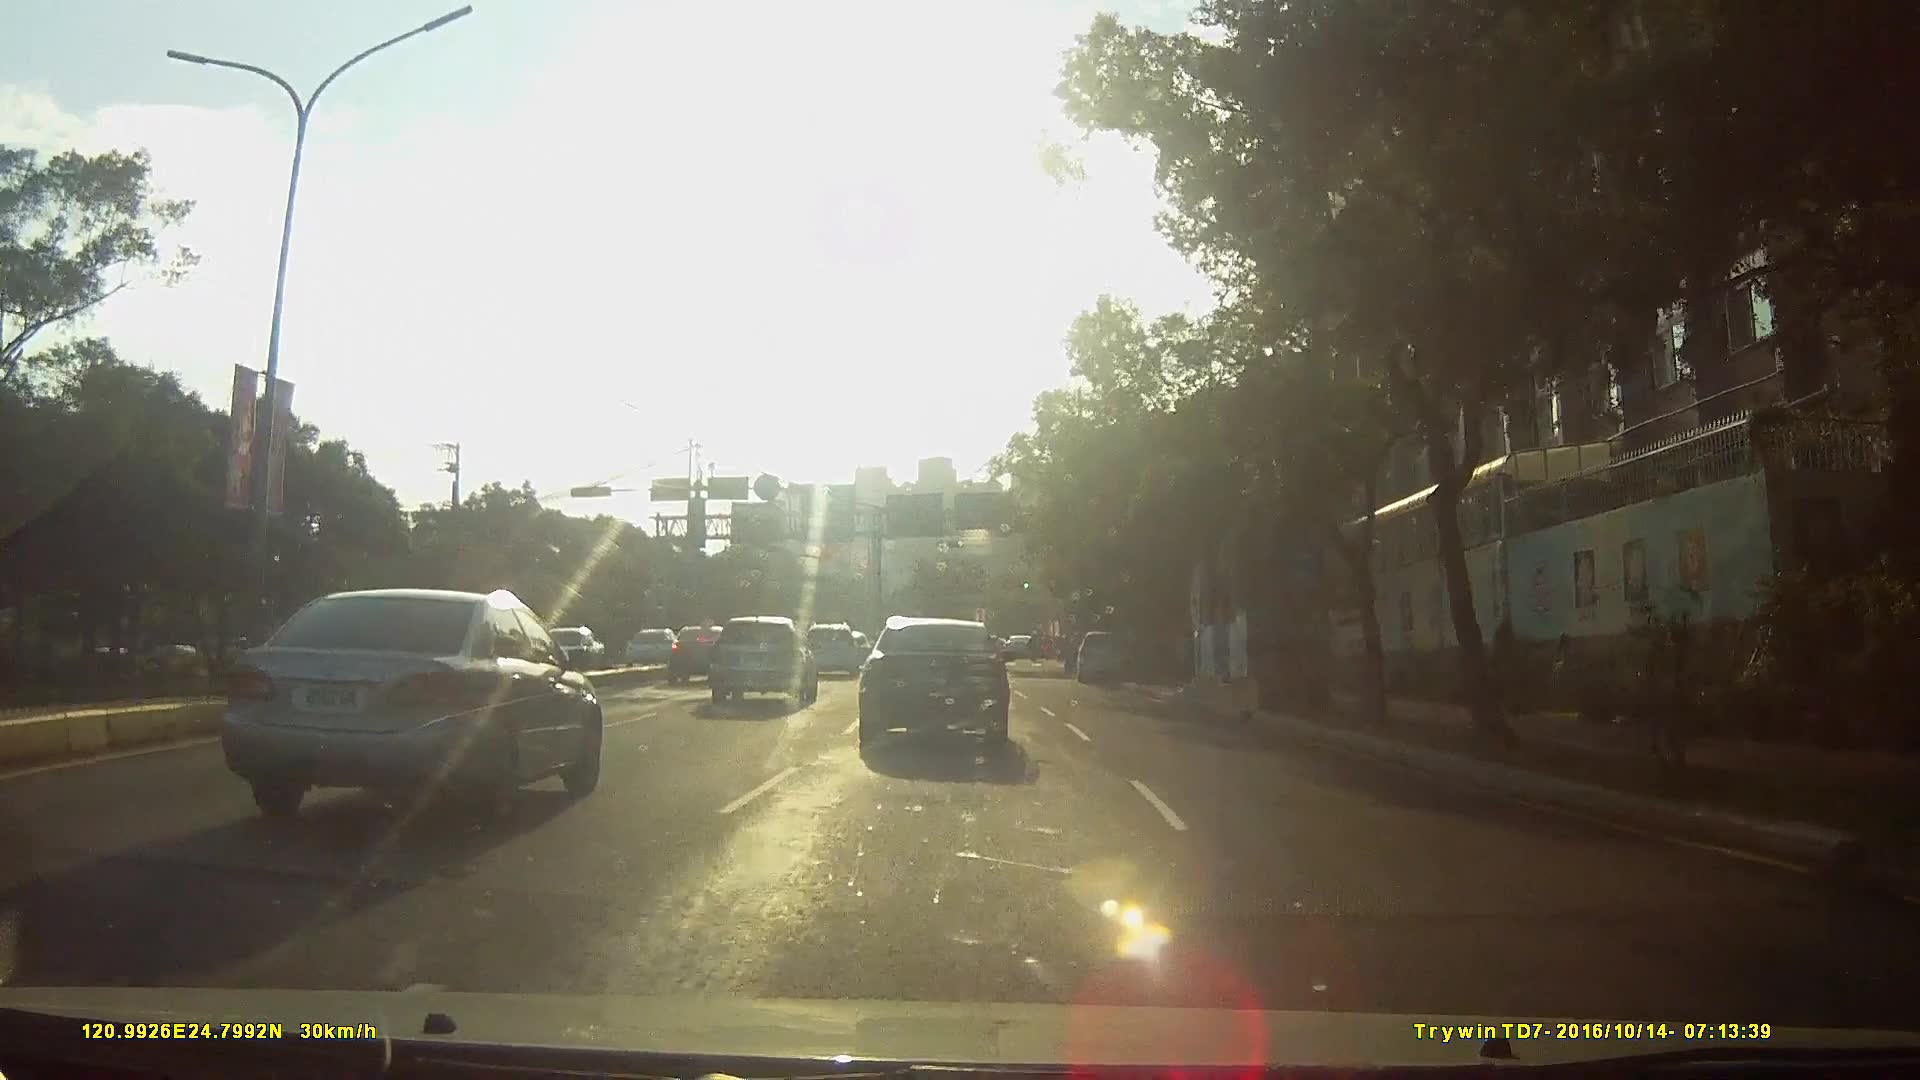vehicle: (204, 579, 615, 835), (855, 608, 1033, 760), (707, 615, 818, 709), (651, 618, 727, 682), (531, 618, 613, 676), (798, 618, 861, 676), (1073, 626, 1135, 680), (618, 626, 682, 669)
